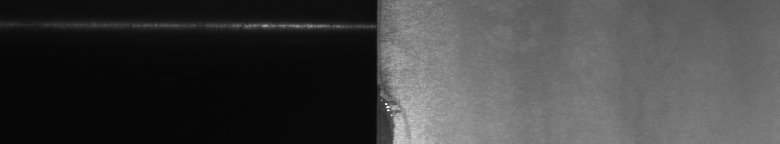hb: (388, 65, 415, 136)
